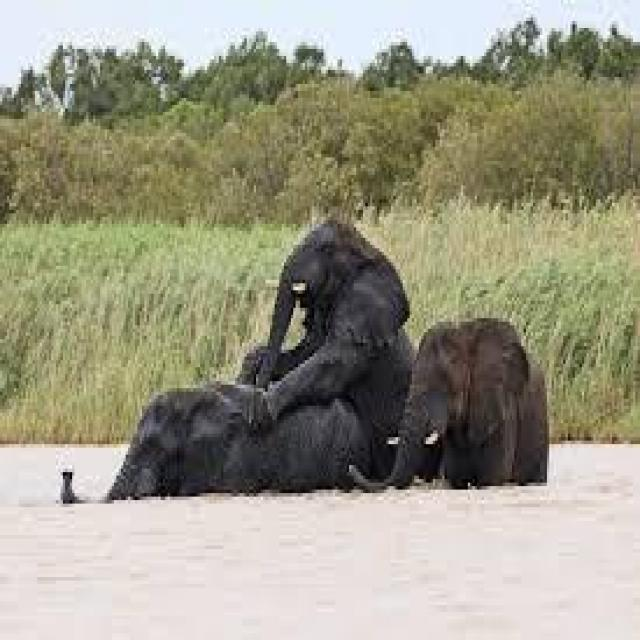Elephant: (266, 213, 414, 479), (56, 370, 361, 490), (360, 315, 552, 486)
